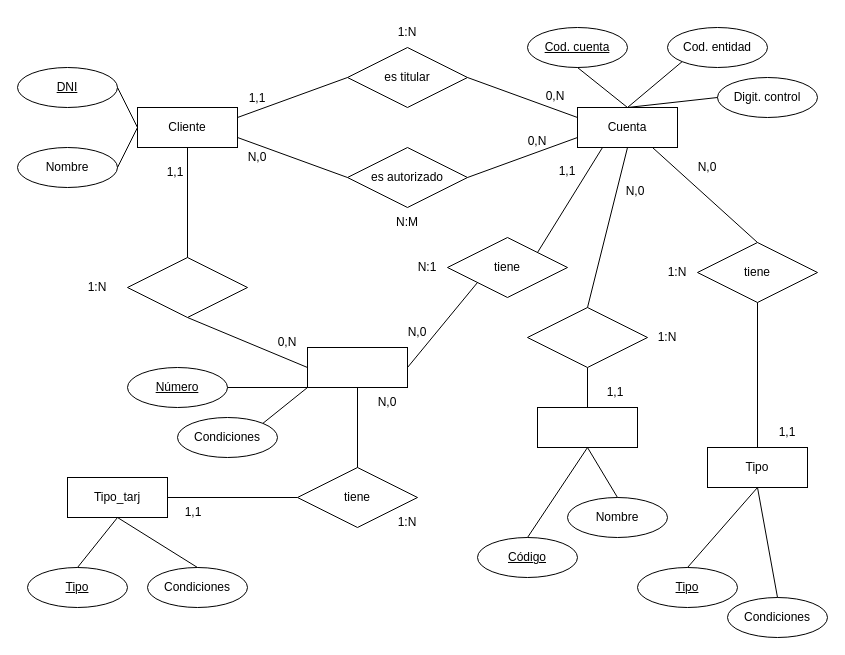
This 845x655 diagram has some shape labels left out. Here are the shapes that lost their labels. From the top down, the centre of each, then its label:
(x=187, y=287): posee
(x=587, y=337): gestiona
(x=357, y=367): Tarjeta
(x=587, y=427): Sucursal
